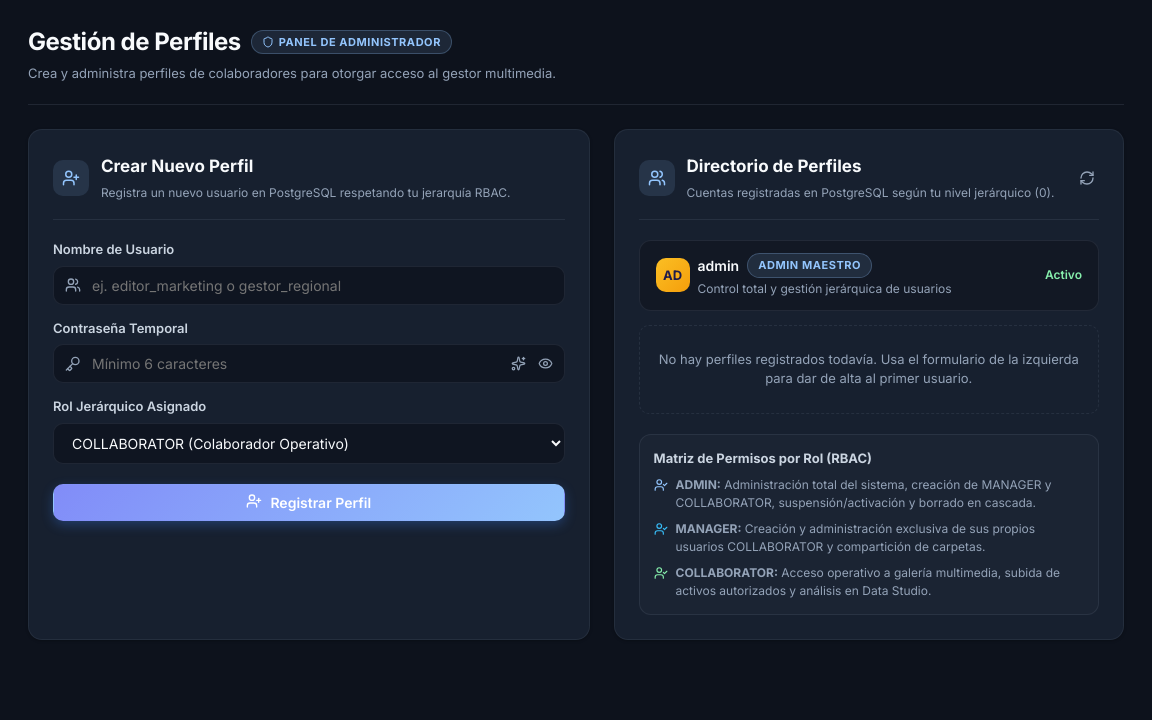
it: UserProfilesView Component › creates profile and displays it in directory
Step 1. Type "colaborador_test" into the field labelled "Nombre de Usuario" → (309, 285), box [53,266,564,304]
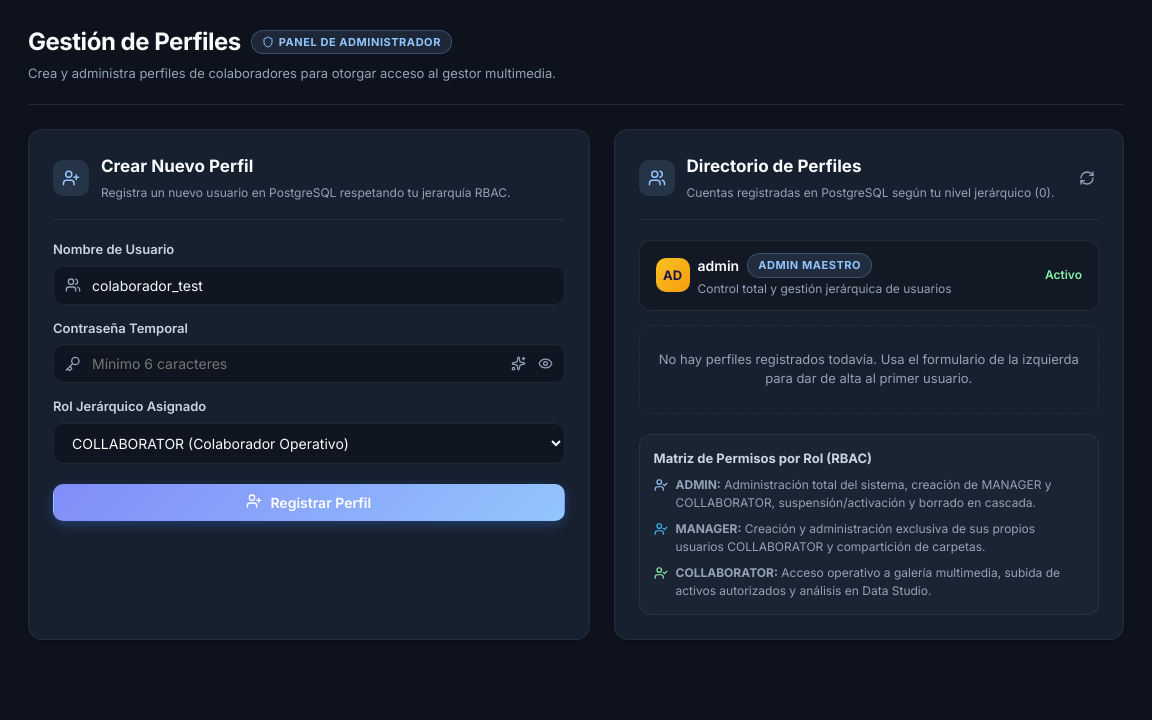
Step 2. Type "Secr3tPass!" into the password field labelled "Contraseña Temporal" → (309, 364), box [53,344,564,383]
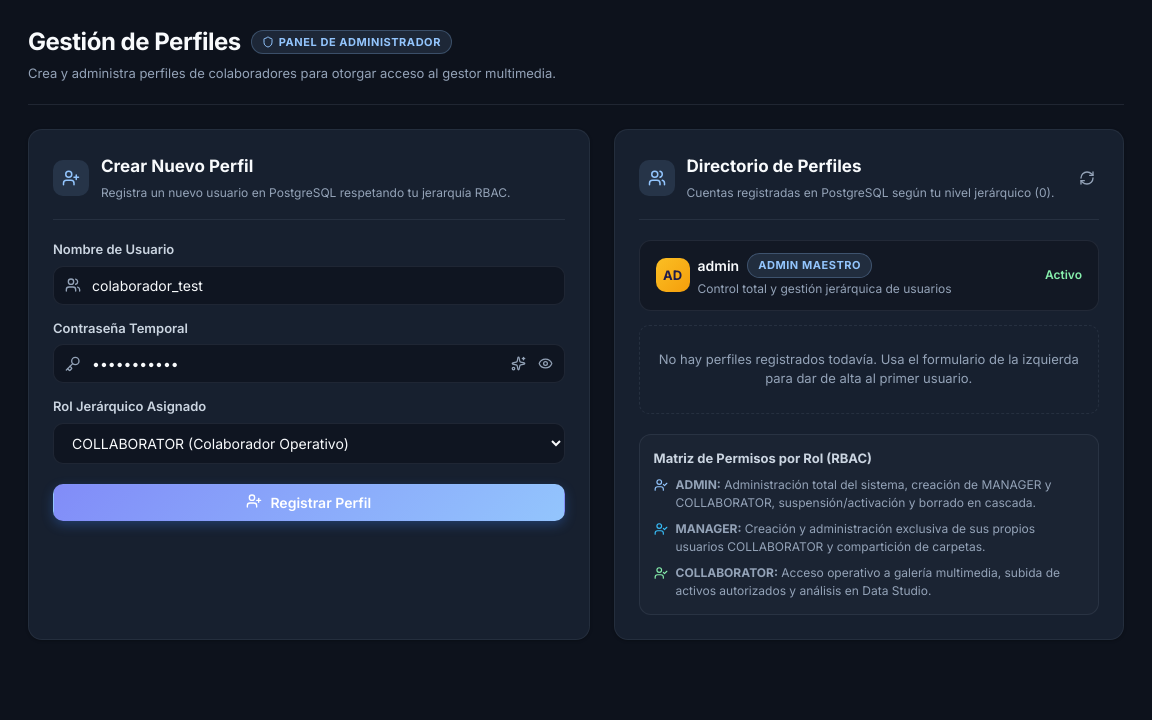
Step 3. Click the button "Registrar Perfil" → (309, 502), box [53,484,564,520]
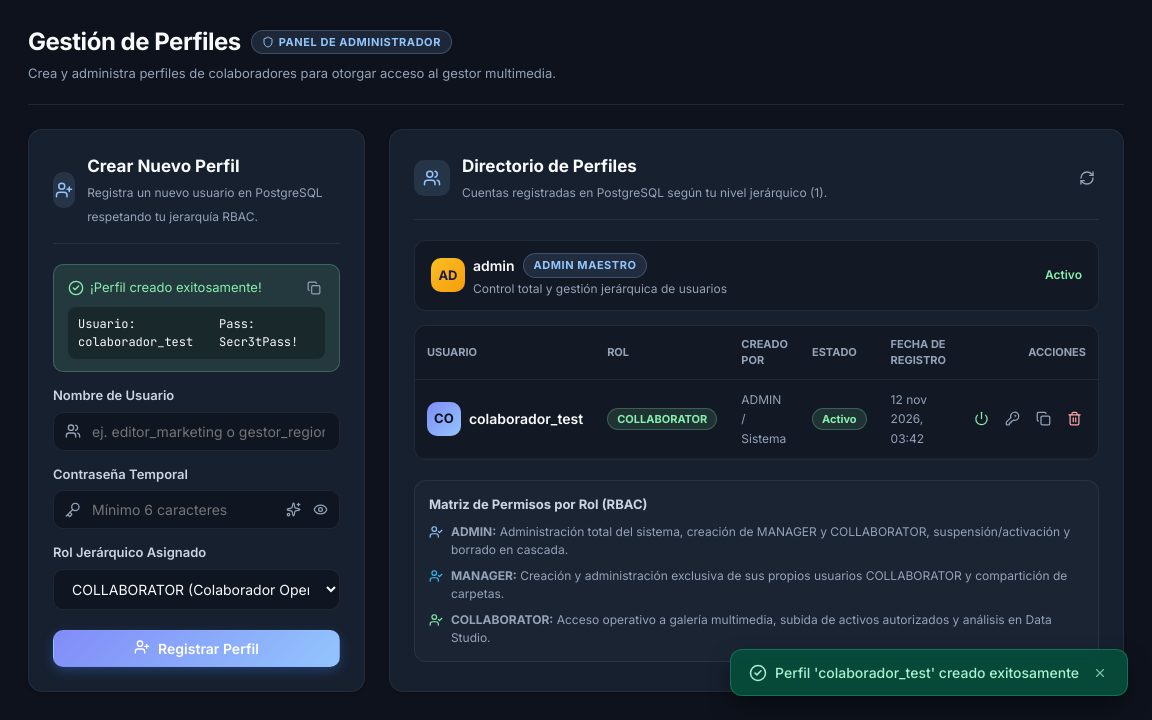
Expected: the text "¡Perfil creado exitosamente!" is shown, [90,278,262,298]
Expected: the text "colaborador_test" is shown, [469,408,583,429]
